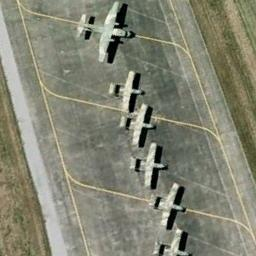Airplane: (76, 0, 136, 64), (122, 138, 168, 192), (144, 180, 190, 229), (111, 102, 159, 148), (105, 68, 146, 115)
